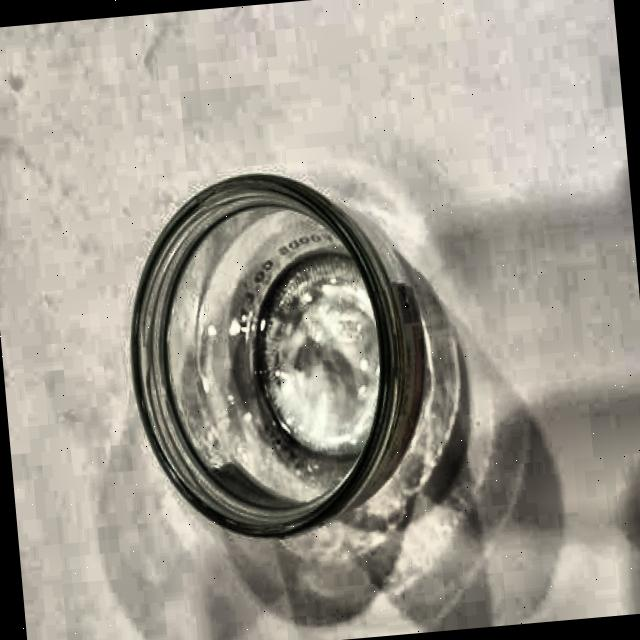glass: (112, 152, 456, 540)
